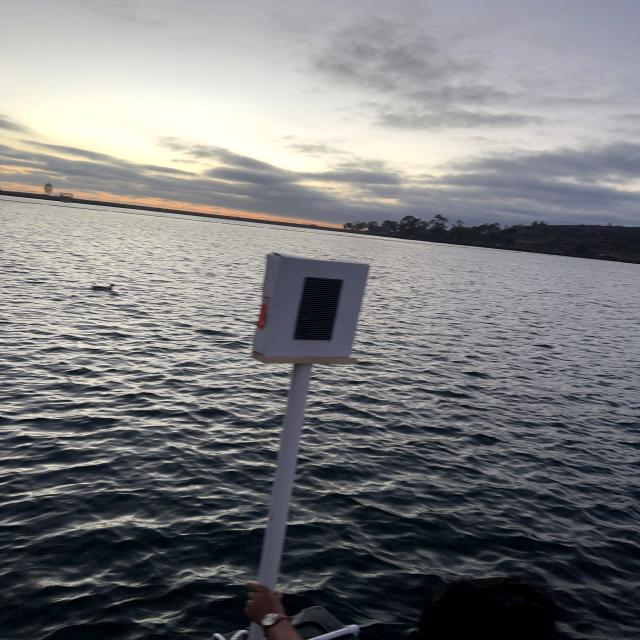led: (278, 259, 352, 358)
